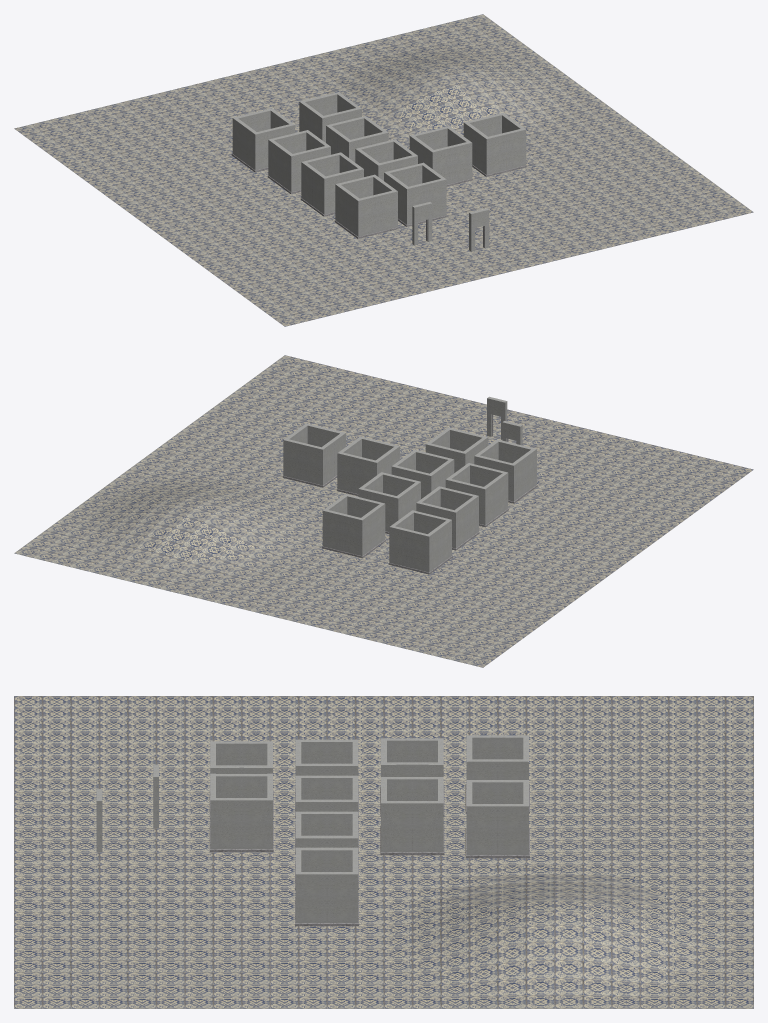
File: room1.glb
The picture shows the model from 3 angles, top to bottom: view 1: azimuth 30°, elevation 25°; view 2: azimuth 150°, elevation 25°; view 3: azimuth 270°, elevation 25°; orthographic projection. The views are drawn at different scales.
Parts seen in each view (by area): view 1: floor_comp_2x2x0.005, floor_comp_2x2x0.003, floor_comp_2x2x0.001, floor_comp_2x2x0.002, corneroutskirt_comp_2.15x2.25x4.007, corneroutskirt_comp_2.15x2.25x4.008, corneroutskirt_comp_2.15x2.25x4.009, corneroutskirt_comp_2.15x2.25x4.004, corneroutskirt_comp_2.15x2.25x4.002, corneroutskirt_comp_2.15x2.25x4.006, corneroutskirt_comp_2.15x2.25x4.003, corneroutskirt_comp_2.15x2.25x4.001 (+4 smaller); view 2: floor_comp_2x2x0.001, floor_comp_2x2x0.002, floor_comp_2x2x0.003, floor_comp_2x2x0.005, corneroutskirt_comp_2.15x2.25x4.001, corneroutskirt_comp_2.15x2.25x4.002, corneroutskirt_comp_2.15x2.25x4.008, corneroutskirt_comp_2.15x2.25x4.009, corneroutskirt_comp_2.15x2.25x4.006, corneroutskirt_comp_2.15x2.25x4.007, corneroutskirt_comp_2.15x2.25x4.003, corneroutskirt_comp_2.15x2.25x4 (+3 smaller); view 3: floor_comp_2x2x0.001, floor_comp_2x2x0.005, floor_comp_2x2x0.002, floor_comp_2x2x0.003, corneroutskirt_comp_2.15x2.25x4.008, corneroutskirt_comp_2.15x2.25x4.004, corneroutskirt_comp_2.15x2.25x4, corneroutskirt_comp_2.15x2.25x4.001, corneroutskirt_comp_2.15x2.25x4.002, corneroutskirt_comp_2.15x2.25x4.003, corneroutskirt_comp_2.15x2.25x4.005, corneroutskirt_comp_2.15x2.25x4.006 (+2 smaller).
Part boxes in pixels (<box>): floor_comp_2x2x0.005: <box>446,113,753,269</box>; floor_comp_2x2x0.003: <box>150,192,518,326</box>; floor_comp_2x2x0.001: <box>249,14,617,149</box>; floor_comp_2x2x0.002: <box>14,71,299,227</box>; corneroutskirt_comp_2.15x2.25x4.007: <box>334,174,398,238</box>; corneroutskirt_comp_2.15x2.25x4.008: <box>463,112,526,177</box>; corneroutskirt_comp_2.15x2.25x4.009: <box>409,126,472,186</box>; corneroutskirt_comp_2.15x2.25x4.004: <box>384,162,447,226</box>; corneroutskirt_comp_2.15x2.25x4.002: <box>231,108,295,172</box>; corneroutskirt_comp_2.15x2.25x4.006: <box>300,152,363,216</box>; corneroutskirt_comp_2.15x2.25x4.003: <box>267,130,330,194</box>; corneroutskirt_comp_2.15x2.25x4.001: <box>299,92,361,142</box>; floor_comp_2x2x0.001: <box>14,454,336,610</box>; floor_comp_2x2x0.002: <box>249,533,617,667</box>; floor_comp_2x2x0.003: <box>478,412,753,568</box>; floor_comp_2x2x0.005: <box>150,355,518,499</box>; corneroutskirt_comp_2.15x2.25x4.001: <box>322,494,385,558</box>; corneroutskirt_comp_2.15x2.25x4.002: <box>388,510,452,574</box>; corneroutskirt_comp_2.15x2.25x4.008: <box>282,423,345,487</box>; corneroutskirt_comp_2.15x2.25x4.009: <box>336,436,399,495</box>; corneroutskirt_comp_2.15x2.25x4.006: <box>445,463,508,527</box>; corneroutskirt_comp_2.15x2.25x4.007: <box>474,439,537,503</box>; corneroutskirt_comp_2.15x2.25x4.003: <box>416,486,479,550</box>; corneroutskirt_comp_2.15x2.25x4: <box>358,472,420,534</box>; floor_comp_2x2x0.001: <box>384,852,753,1008</box>; floor_comp_2x2x0.005: <box>14,852,383,1008</box>; floor_comp_2x2x0.002: <box>384,696,753,852</box>; floor_comp_2x2x0.003: <box>14,696,383,852</box>; corneroutskirt_comp_2.15x2.25x4.008: <box>295,847,358,926</box>; corneroutskirt_comp_2.15x2.25x4.004: <box>209,773,273,852</box>; corneroutskirt_comp_2.15x2.25x4: <box>380,777,444,855</box>; corneroutskirt_comp_2.15x2.25x4.001: <box>465,780,529,858</box>; corneroutskirt_comp_2.15x2.25x4.002: <box>465,735,529,813</box>; corneroutskirt_comp_2.15x2.25x4.003: <box>380,738,444,816</box>; corneroutskirt_comp_2.15x2.25x4.005: <box>295,775,358,853</box>; corneroutskirt_comp_2.15x2.25x4.006: <box>295,739,358,817</box>.
Size of the model in its own units: 52 by 4 by 52.
1 material, 1 textured.
